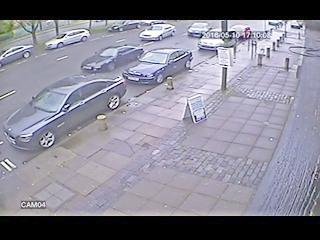Car: (7, 75, 124, 149), (123, 47, 193, 85), (85, 45, 142, 71), (45, 29, 90, 49), (198, 28, 234, 53), (1, 44, 34, 68), (139, 24, 176, 41), (108, 20, 142, 32), (187, 22, 212, 38), (229, 24, 251, 40), (140, 20, 165, 26)
